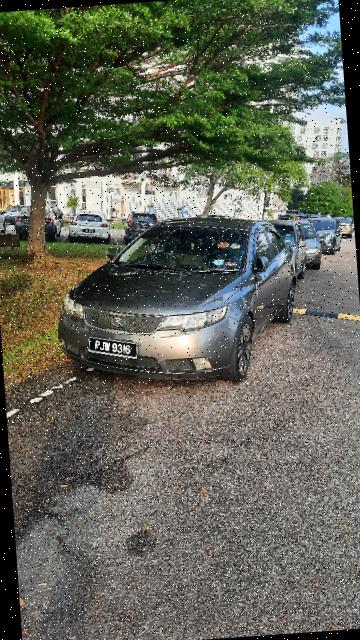License_Plate: (87, 331, 142, 368), (83, 228, 96, 235)
car: (45, 209, 307, 398), (68, 208, 115, 247), (123, 209, 162, 245)
